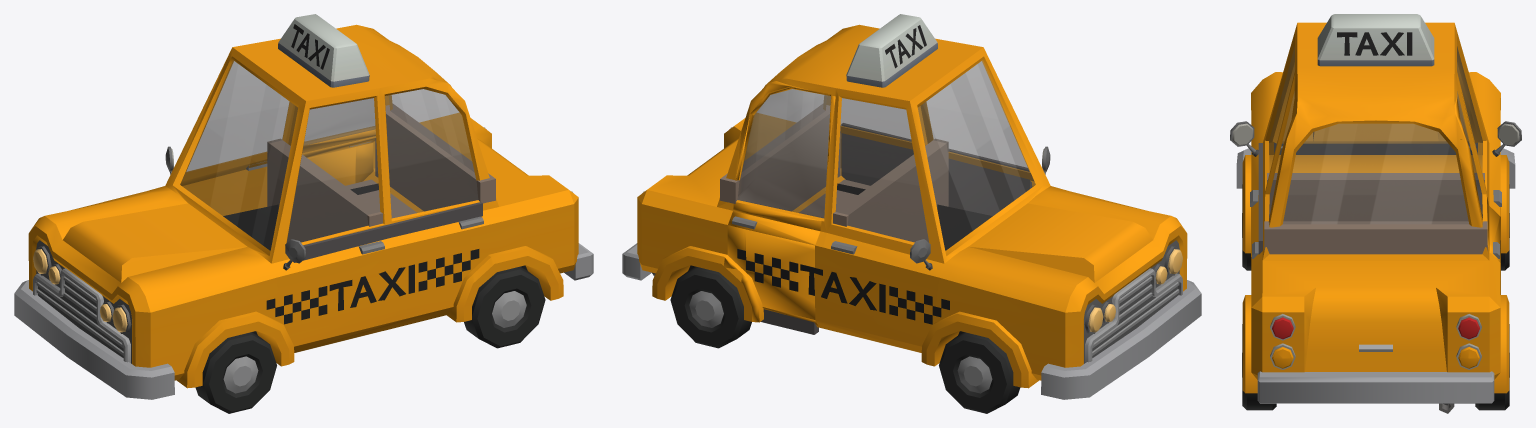
File: Taxi.glb
The picture shows the model from 3 angles, left to right: view 1: azimuth 30°, elevation 25°; view 2: azimuth 150°, elevation 25°; view 3: azimuth 270°, elevation 25°; orthographic projection. The views are drawn at different scales.
Visible parts, largest first — view 1: Taxi_Body, Taxi_RearBack, Taxi_FrontBack, Taxi_Door, FL, RL, Taxi_FarLining, Taxi_RearSeat; view 2: Taxi_Body, Taxi_Door, Taxi_RearBack, Taxi_FarLining, Taxi_FrontBack, FR, RR, Taxi_Sill, Taxi_RearSeat; view 3: Taxi_Body, Taxi_FrontBack, Taxi_RearBack, Taxi_Door, Taxi_FarLining, RL, RR.
Boxes of the visible parts, bbox=[...] form: Taxi_Body: bbox=[14, 14, 593, 399]; Taxi_RearBack: bbox=[375, 103, 495, 211]; Taxi_FrontBack: bbox=[267, 139, 382, 242]; Taxi_Door: bbox=[302, 98, 375, 185]; FL: bbox=[195, 332, 276, 413]; RL: bbox=[464, 266, 545, 348]; Taxi_FarLining: bbox=[293, 202, 482, 262]; Taxi_RearSeat: bbox=[346, 179, 416, 218]; Taxi_Body: bbox=[622, 14, 1201, 399]; Taxi_Door: bbox=[723, 81, 835, 327]; Taxi_RearBack: bbox=[720, 104, 840, 211]; Taxi_FarLining: bbox=[841, 123, 1031, 215]; Taxi_FrontBack: bbox=[833, 139, 948, 242]; FR: bbox=[939, 332, 1020, 413]; RR: bbox=[670, 266, 751, 348]; Taxi_Sill: bbox=[760, 309, 818, 334]; Taxi_RearSeat: bbox=[799, 179, 869, 217]; Taxi_Body: bbox=[1230, 14, 1521, 413]; Taxi_FrontBack: bbox=[1267, 173, 1484, 221]; Taxi_RearBack: bbox=[1264, 221, 1487, 254]; Taxi_Door: bbox=[1454, 91, 1500, 294]; Taxi_FarLining: bbox=[1258, 143, 1262, 254]; RL: bbox=[1242, 324, 1276, 410]; RR: bbox=[1475, 324, 1509, 410].
Size of the model in its own units: 4.22 by 2.58 by 2.12.
6 materials, 4 textured.
